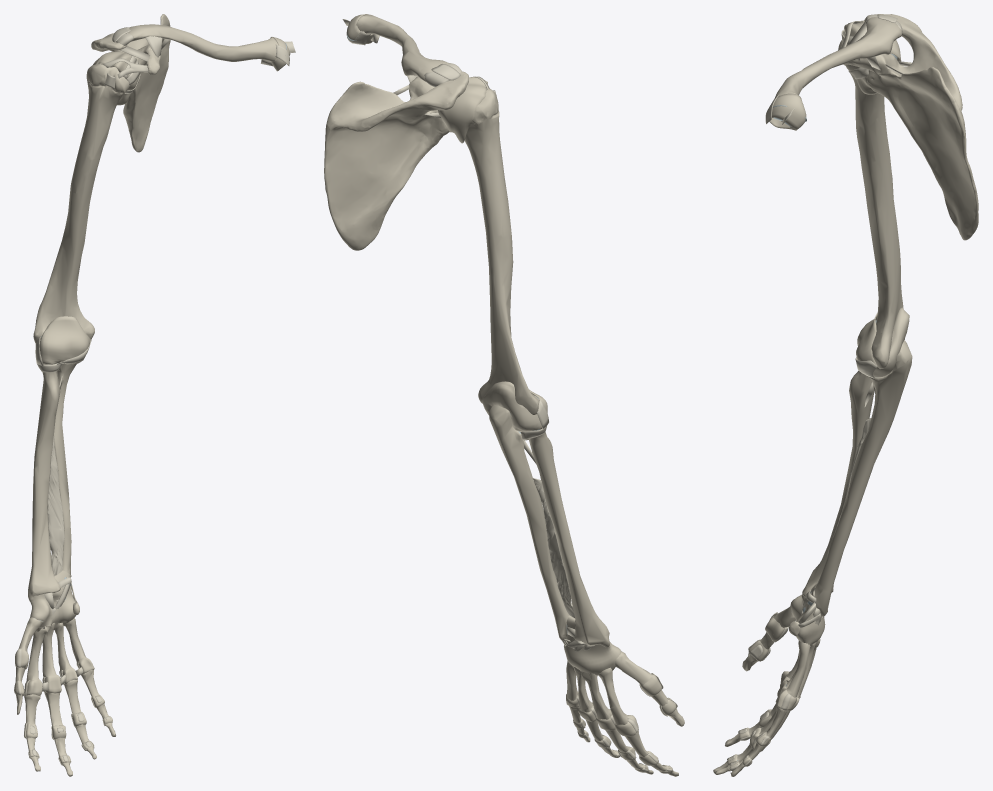
Rendered from detail-skeletal-right-upper-limb.glb.
3 renders of one model, left to right at view 1: azimuth 30°, elevation 25°; view 2: azimuth 150°, elevation 25°; view 3: azimuth 270°, elevation 25°, orthographic. The views are drawn at different scales.
Visible parts, largest first — view 1: za-bcf4932a02405a07, za-8a48faa6b2bf8117, za-cdbfb237d6bba5c9, za-68a04acb0594e78d, za-7bf2093c9bc127c0, za-5a9cd8e0b26dd97d, za-4b99332098ac0d97, za-5484c691a021b45d, za-eeb0cf351e832a6f, za-2c738171c8d19fbd, za-8d9180a97b73a32d, za-a30ca0ea41b7498a (+1 smaller); view 2: za-cdbfb237d6bba5c9, za-bcf4932a02405a07, za-7bf2093c9bc127c0, za-8a48faa6b2bf8117, za-68a04acb0594e78d, za-5a9cd8e0b26dd97d, za-8d9180a97b73a32d, za-5484c691a021b45d, za-4b99332098ac0d97, za-eeb0cf351e832a6f, za-2c738171c8d19fbd; view 3: za-cdbfb237d6bba5c9, za-bcf4932a02405a07, za-7bf2093c9bc127c0, za-68a04acb0594e78d, za-8a48faa6b2bf8117, za-5a9cd8e0b26dd97d, za-6cc59e5ae7911863, za-5484c691a021b45d, za-eeb0cf351e832a6f, za-63f1fe6563a53bda, za-8d9180a97b73a32d.
Part boxes in pixels (left/top/right/bottom): za-bcf4932a02405a07: left=33, top=63, right=129, bottom=343; za-8a48faa6b2bf8117: left=28, top=363, right=60, bottom=601; za-cdbfb237d6bba5c9: left=91, top=14, right=170, bottom=152; za-68a04acb0594e78d: left=128, top=24, right=278, bottom=61; za-7bf2093c9bc127c0: left=54, top=363, right=76, bottom=585; za-5a9cd8e0b26dd97d: left=39, top=316, right=90, bottom=364; za-4b99332098ac0d97: left=47, top=436, right=64, bottom=575; za-5484c691a021b45d: left=30, top=570, right=76, bottom=631; za-eeb0cf351e832a6f: left=15, top=649, right=94, bottom=695; za-2c738171c8d19fbd: left=26, top=625, right=50, bottom=681; za-8d9180a97b73a32d: left=93, top=51, right=139, bottom=105; za-a30ca0ea41b7498a: left=42, top=623, right=56, bottom=677; za-cdbfb237d6bba5c9: left=324, top=71, right=468, bottom=250; za-bcf4932a02405a07: left=464, top=88, right=539, bottom=414; za-7bf2093c9bc127c0: left=489, top=405, right=568, bottom=640; za-8a48faa6b2bf8117: left=528, top=429, right=609, bottom=647; za-68a04acb0594e78d: left=356, top=14, right=448, bottom=81; za-5a9cd8e0b26dd97d: left=482, top=381, right=547, bottom=431; za-8d9180a97b73a32d: left=438, top=77, right=487, bottom=143; za-5484c691a021b45d: left=564, top=615, right=621, bottom=675; za-4b99332098ac0d97: left=533, top=478, right=575, bottom=622; za-eeb0cf351e832a6f: left=566, top=673, right=661, bottom=736; za-2c738171c8d19fbd: left=598, top=667, right=628, bottom=724; za-cdbfb237d6bba5c9: left=843, top=14, right=978, bottom=240; za-bcf4932a02405a07: left=838, top=20, right=903, bottom=368; za-7bf2093c9bc127c0: left=807, top=340, right=912, bottom=616; za-68a04acb0594e78d: left=775, top=17, right=901, bottom=126; za-8a48faa6b2bf8117: left=802, top=370, right=874, bottom=597; za-5a9cd8e0b26dd97d: left=856, top=307, right=909, bottom=377; za-6cc59e5ae7911863: left=769, top=93, right=806, bottom=130; za-5484c691a021b45d: left=790, top=584, right=825, bottom=646; za-eeb0cf351e832a6f: left=765, top=613, right=800, bottom=710; za-63f1fe6563a53bda: left=786, top=640, right=810, bottom=697; za-8d9180a97b73a32d: left=844, top=21, right=901, bottom=94.
Size of the model in its own units: 0.3346 by 0.7265 by 0.2098.
